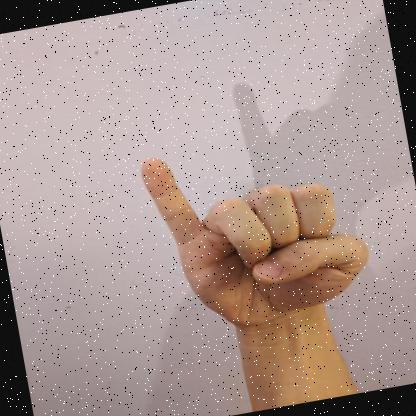I: (141, 157, 368, 330)
